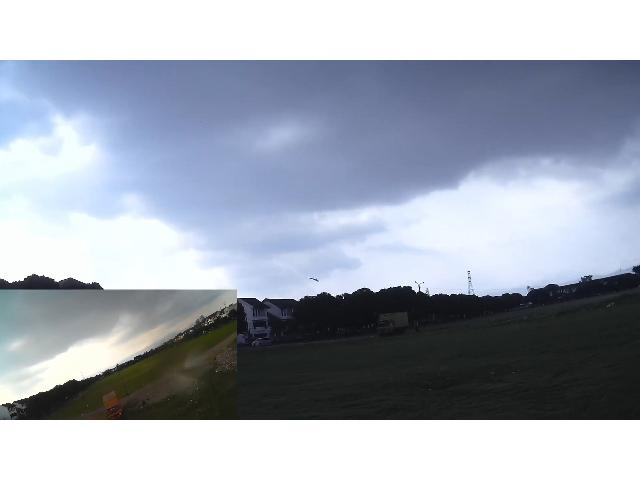Anti-Drone: (304, 268, 332, 284)
